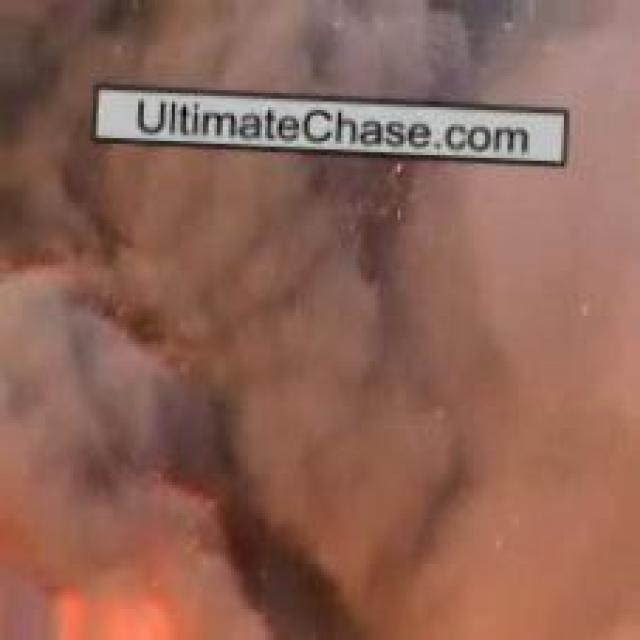smoke: (43, 21, 620, 594)
